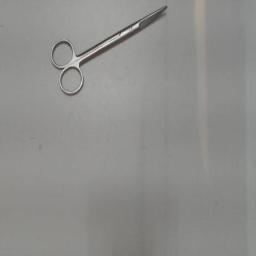Curved Mayo Scissors: (46, 4, 172, 102)
